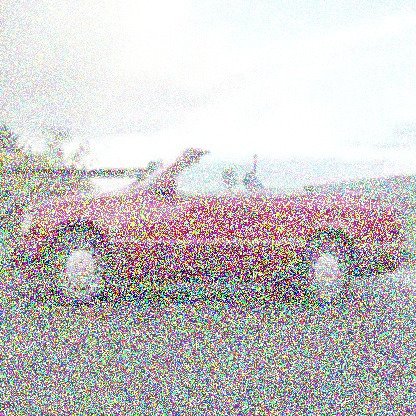Vehicle: (20, 146, 414, 315)
